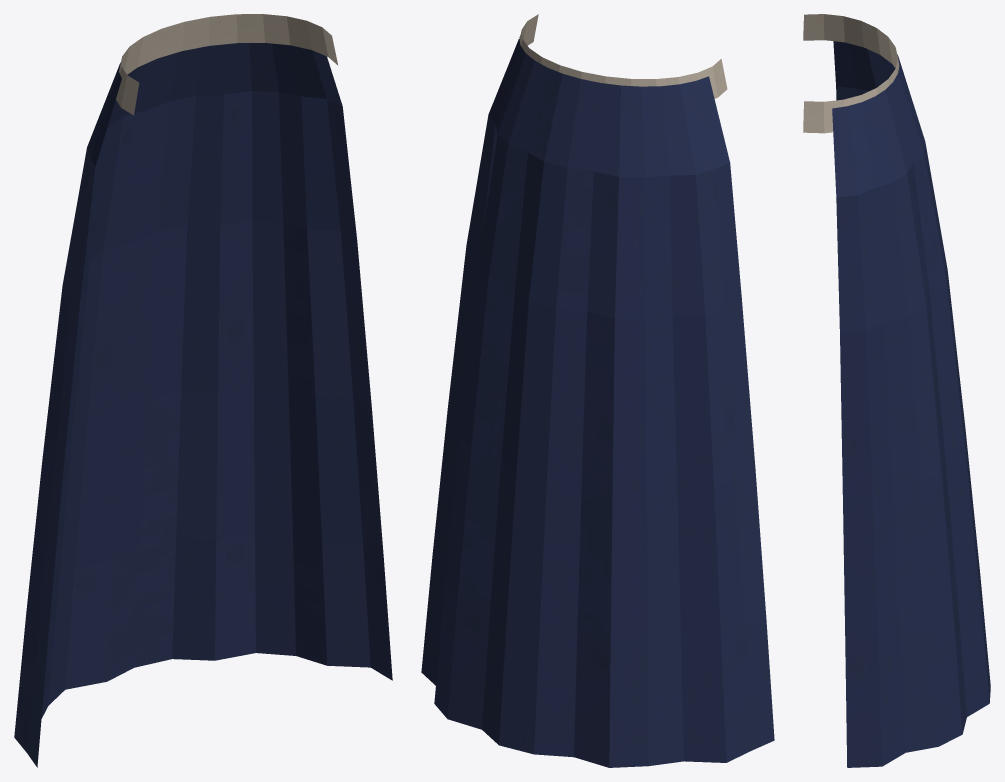
File: acc_cape_long.glb
3 views of the same model, side by side, from view 1: azimuth 30°, elevation 25°; view 2: azimuth 150°, elevation 25°; view 3: azimuth 270°, elevation 25° (orthographic). The views are drawn at different scales.
Visible parts, largest first — view 1: acc_cape_long; view 2: acc_cape_long; view 3: acc_cape_long.
Boxes of the visible parts, bbox=[...] form: acc_cape_long: bbox=[14, 14, 392, 767]; acc_cape_long: bbox=[421, 14, 774, 767]; acc_cape_long: bbox=[803, 14, 990, 767].
Bounding box in the file's own units: 0.5342 × 0.98 × 0.265.
Materials: 2 (2 with a texture image).
